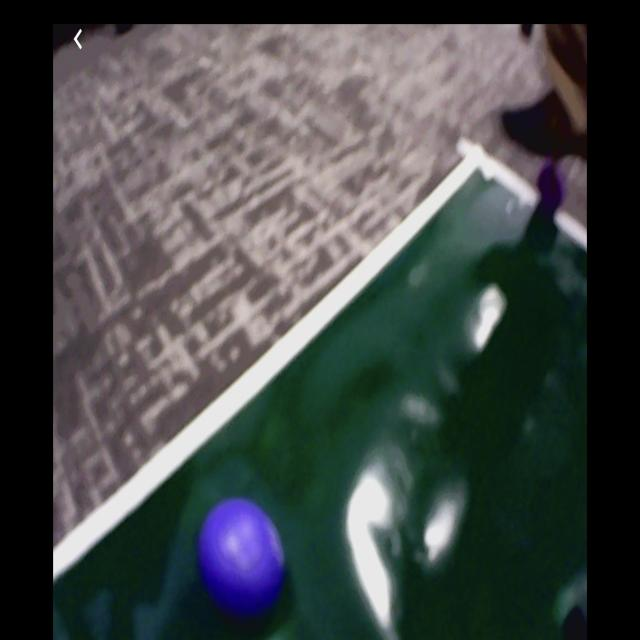ball: (200, 499, 285, 612)
